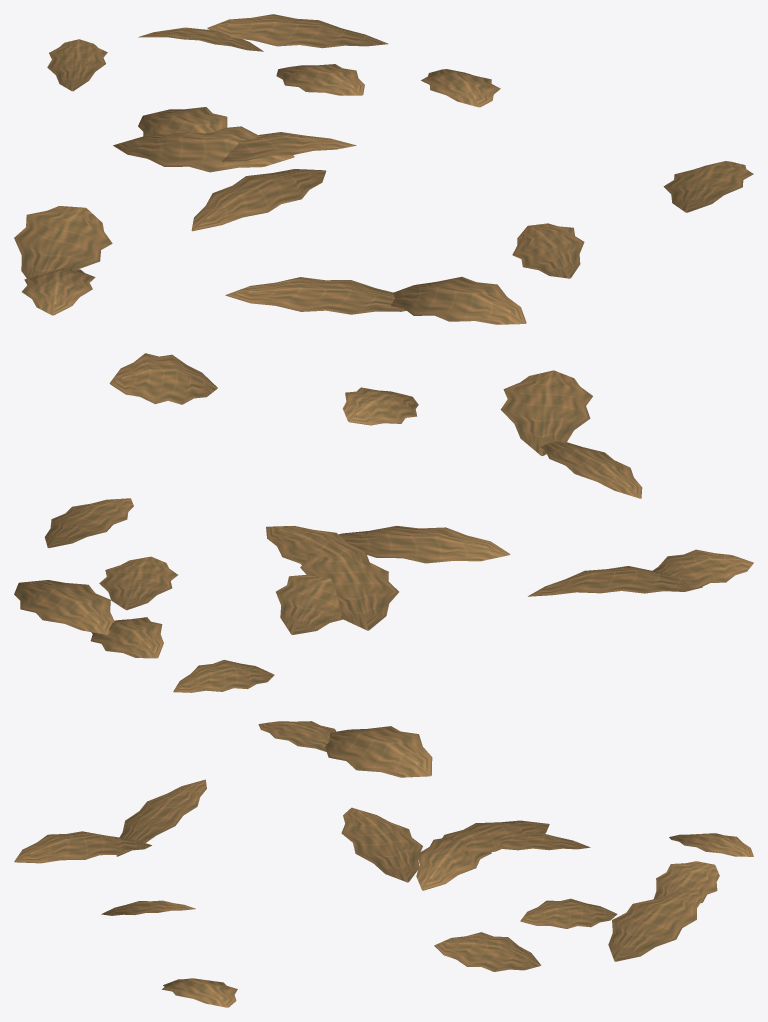
File: BeechLitter_C.fbx
3 views of the same model, one above another, from view 1: azimuth 30°, elevation 25°; view 2: azimuth 150°, elevation 25°; view 3: azimuth 270°, elevation 25° (orthographic). The views are drawn at different scales.
Parts seen in each view (by area): view 1: BeechLitter_C_LOD0; view 2: BeechLitter_C_LOD0; view 3: BeechLitter_C_LOD0.
Part boxes in pixels (x1,y1,x2,y2): BeechLitter_C_LOD0: (14,14,753,324); BeechLitter_C_LOD0: (14,353,753,692); BeechLitter_C_LOD0: (14,721,753,1007).
Size of what is drawn, in the model's own units: 37.74 by 1.55 by 40.54.
1 material, 1 textured.
